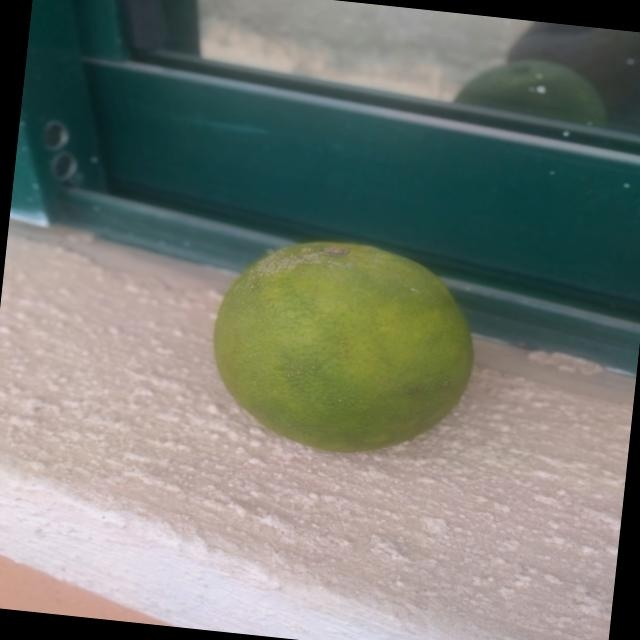agrume: (166, 212, 500, 500)
